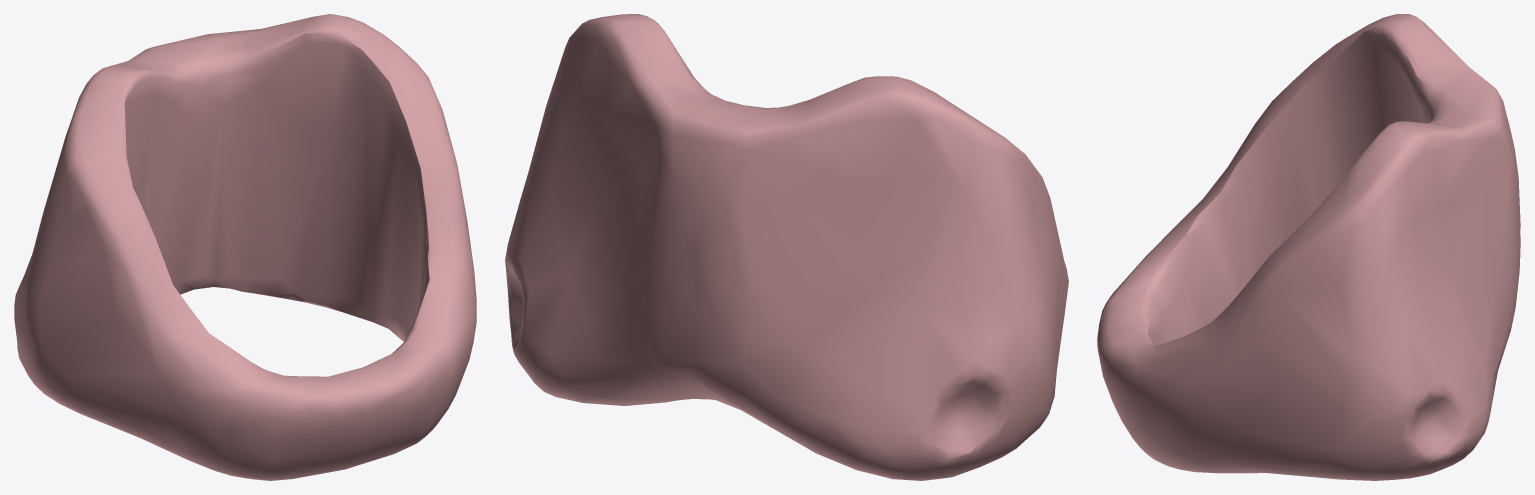
File: fma9615_fj6487.glb
3 views of the same model, side by side, from view 1: azimuth 30°, elevation 25°; view 2: azimuth 150°, elevation 25°; view 3: azimuth 270°, elevation 25° (orthographic). The views are drawn at different scales.
Visible parts, largest first — view 1: FMA9615_FJ6487; view 2: FMA9615_FJ6487; view 3: FMA9615_FJ6487.
Part boxes in pixels (x1,y1,x2,y2): FMA9615_FJ6487: (14,14,476,480); FMA9615_FJ6487: (505,14,1068,480); FMA9615_FJ6487: (1097,14,1520,480).
Bounding box in the file's own units: 0.023 × 0.0175 × 0.0189.
